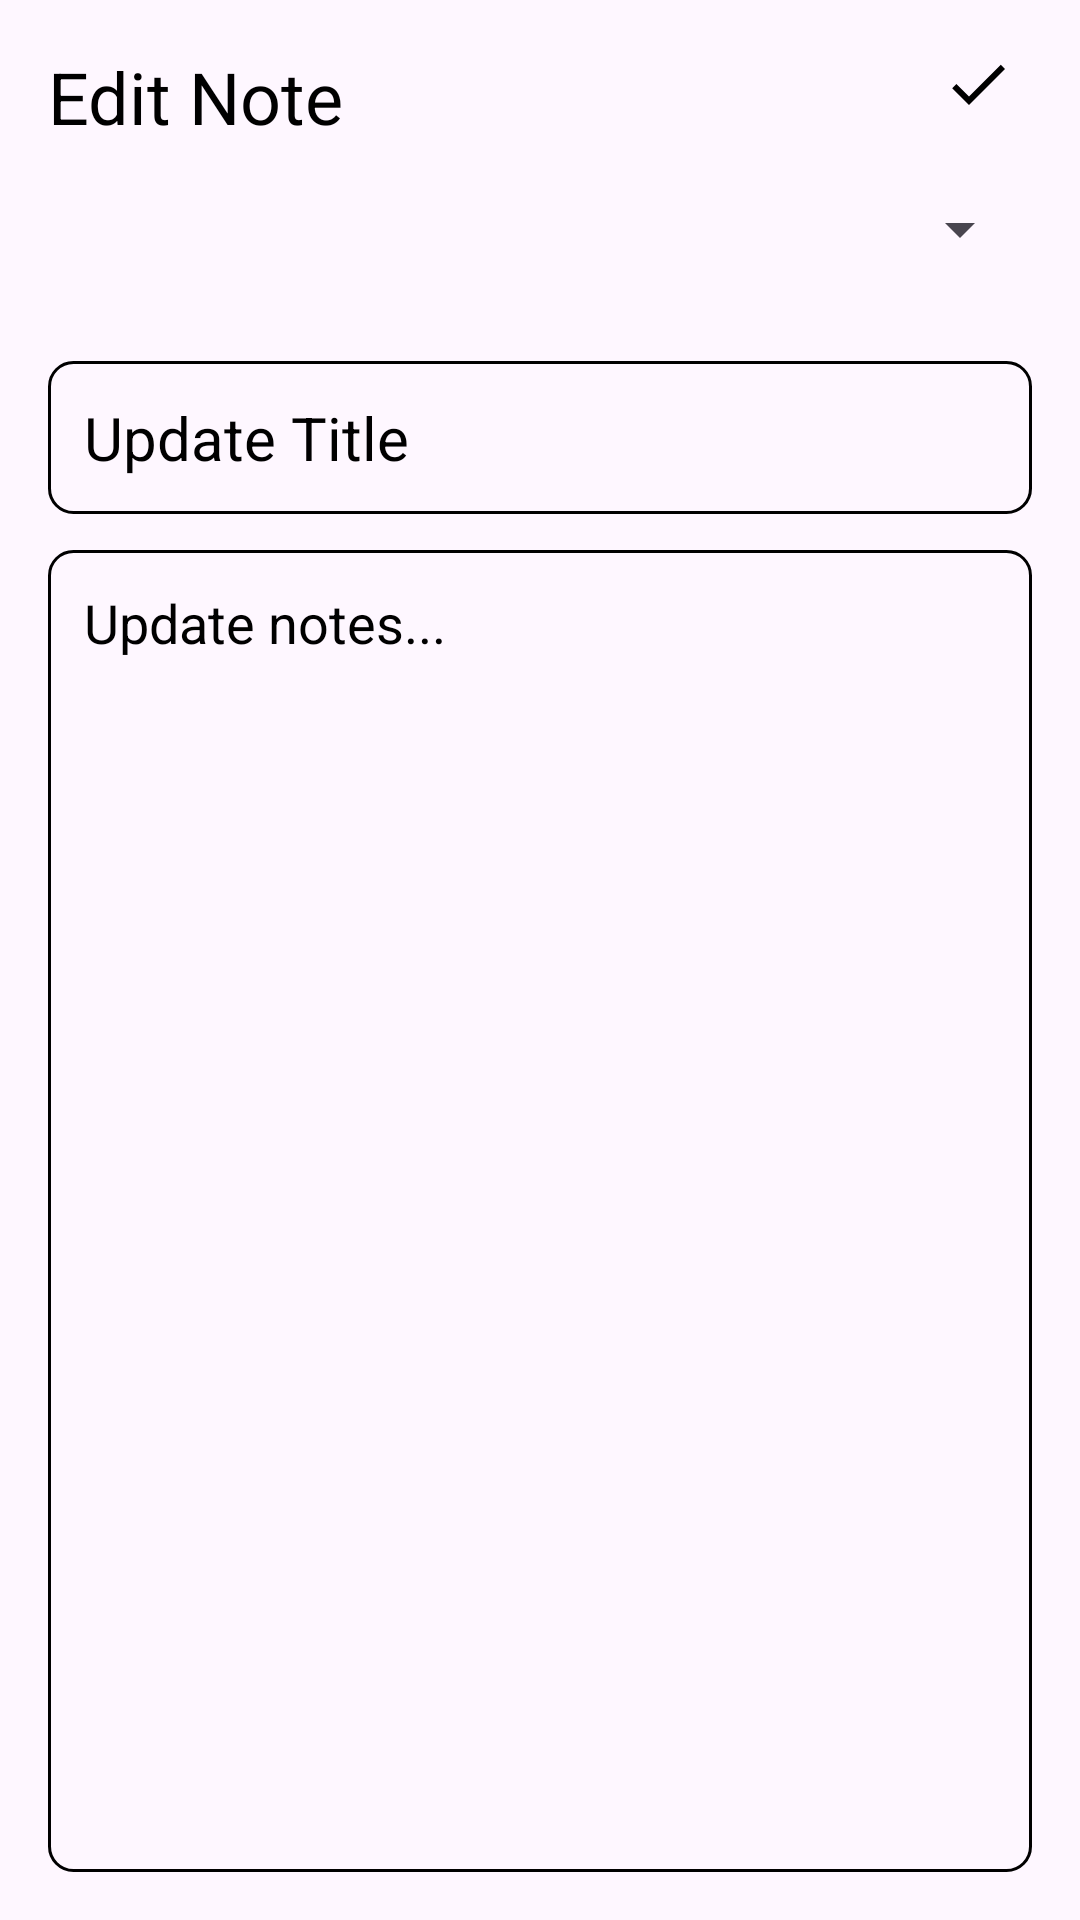

Where to tap for icons on this 1080px x 1920px app screen, as point (x, y):
done: point (978, 85)
